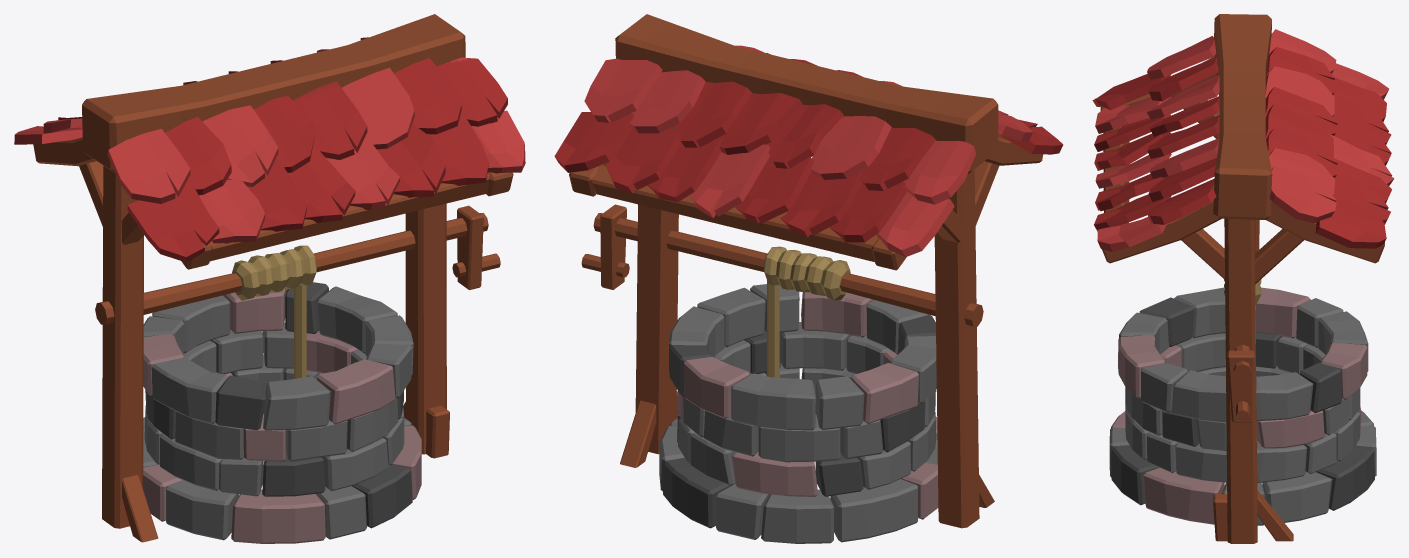
File: LowPolyWell.fbx
3 views of the same model, side by side, from view 1: azimuth 30°, elevation 25°; view 2: azimuth 150°, elevation 25°; view 3: azimuth 270°, elevation 25° (orthographic). The views are drawn at different scales.
Parts seen in each view (by area): view 1: StoneWell; view 2: StoneWell; view 3: StoneWell.
Boxes of the visible parts, x1,y1,x2,y2 form: StoneWell: (14, 14, 525, 543); StoneWell: (554, 14, 1063, 543); StoneWell: (1092, 14, 1394, 543).
Size of the model in its own units: 720 by 696 by 503.
1 material, 1 textured.
